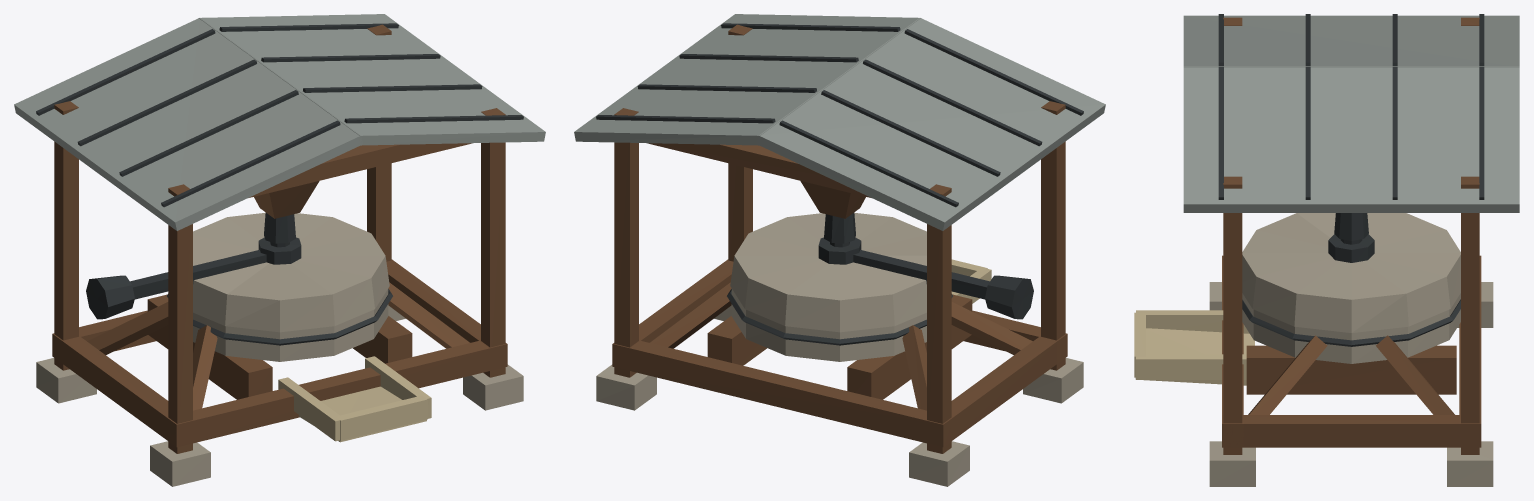
Rendered from Millstone.glb.
The picture shows the model from 3 angles, left to right: view 1: azimuth 30°, elevation 25°; view 2: azimuth 150°, elevation 25°; view 3: azimuth 270°, elevation 25°; orthographic projection. The views are drawn at different scales.
Parts seen in each view (by area): view 1: millstone-static-millstone-pale-galvanized-mat, millstone-static-millstone-restrained-timber-mat, millstone-static-millstone-warm-faceted-stone-mat, millstone-static-millstone-dark-iron-mat, millstone-static-millstone-muted-cream-tray-mat; view 2: millstone-static-millstone-pale-galvanized-mat, millstone-static-millstone-restrained-timber-mat, millstone-static-millstone-warm-faceted-stone-mat, millstone-static-millstone-dark-iron-mat, millstone-static-millstone-muted-cream-tray-mat; view 3: millstone-static-millstone-pale-galvanized-mat, millstone-static-millstone-warm-faceted-stone-mat, millstone-static-millstone-restrained-timber-mat, millstone-static-millstone-dark-iron-mat, millstone-static-millstone-muted-cream-tray-mat.
Boxes of the visible parts, <box> form: millstone-static-millstone-pale-galvanized-mat: <box>14,14,545,230</box>; millstone-static-millstone-restrained-timber-mat: <box>52,24,507,453</box>; millstone-static-millstone-warm-faceted-stone-mat: <box>36,212,523,486</box>; millstone-static-millstone-dark-iron-mat: <box>36,23,523,345</box>; millstone-static-millstone-muted-cream-tray-mat: <box>278,356,431,442</box>; millstone-static-millstone-pale-galvanized-mat: <box>574,14,1105,230</box>; millstone-static-millstone-restrained-timber-mat: <box>612,24,1067,453</box>; millstone-static-millstone-warm-faceted-stone-mat: <box>596,212,1083,486</box>; millstone-static-millstone-dark-iron-mat: <box>596,23,1083,345</box>; millstone-static-millstone-muted-cream-tray-mat: <box>951,259,991,303</box>; millstone-static-millstone-pale-galvanized-mat: <box>1183,15,1519,212</box>; millstone-static-millstone-warm-faceted-stone-mat: <box>1209,213,1493,486</box>; millstone-static-millstone-restrained-timber-mat: <box>1222,17,1481,454</box>; millstone-static-millstone-dark-iron-mat: <box>1218,14,1484,346</box>; millstone-static-millstone-muted-cream-tray-mat: <box>1134,310,1254,385</box>.
Bounding box in the file's own units: 3.08 × 2.54 × 2.66.
